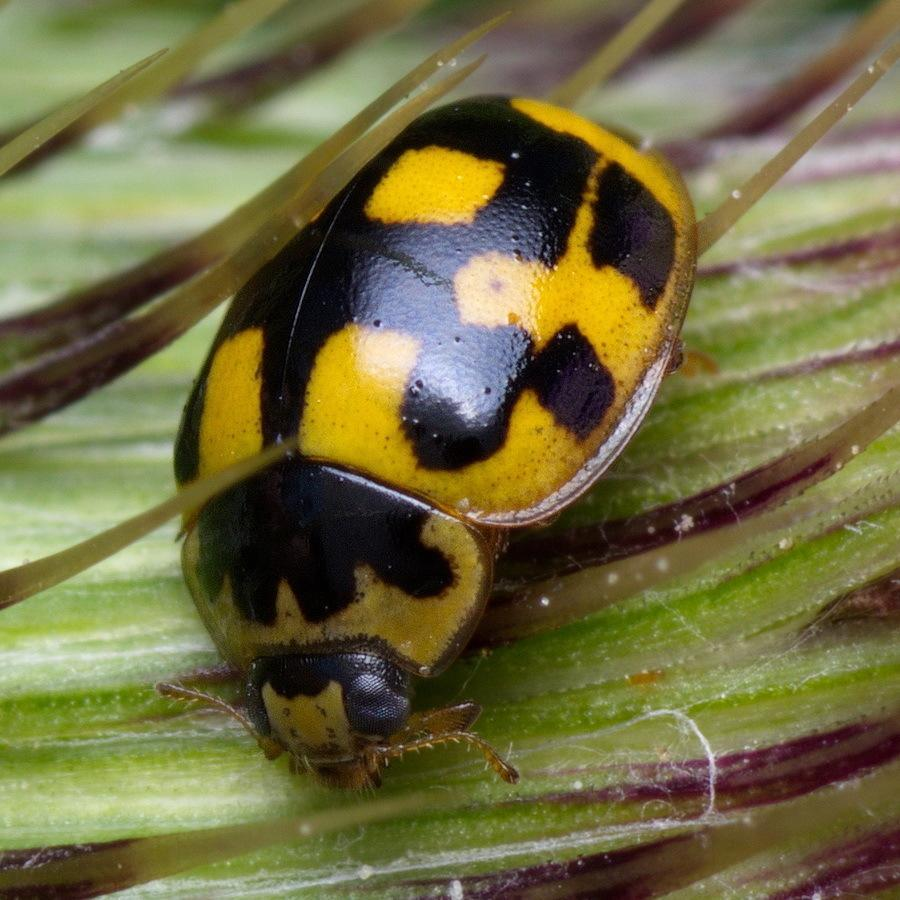ladybug: (151, 86, 706, 799)
